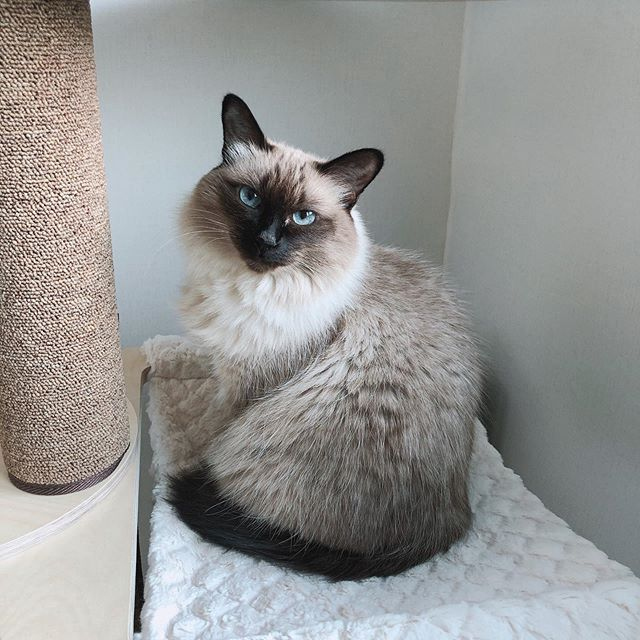cat: (182, 82, 387, 292)
